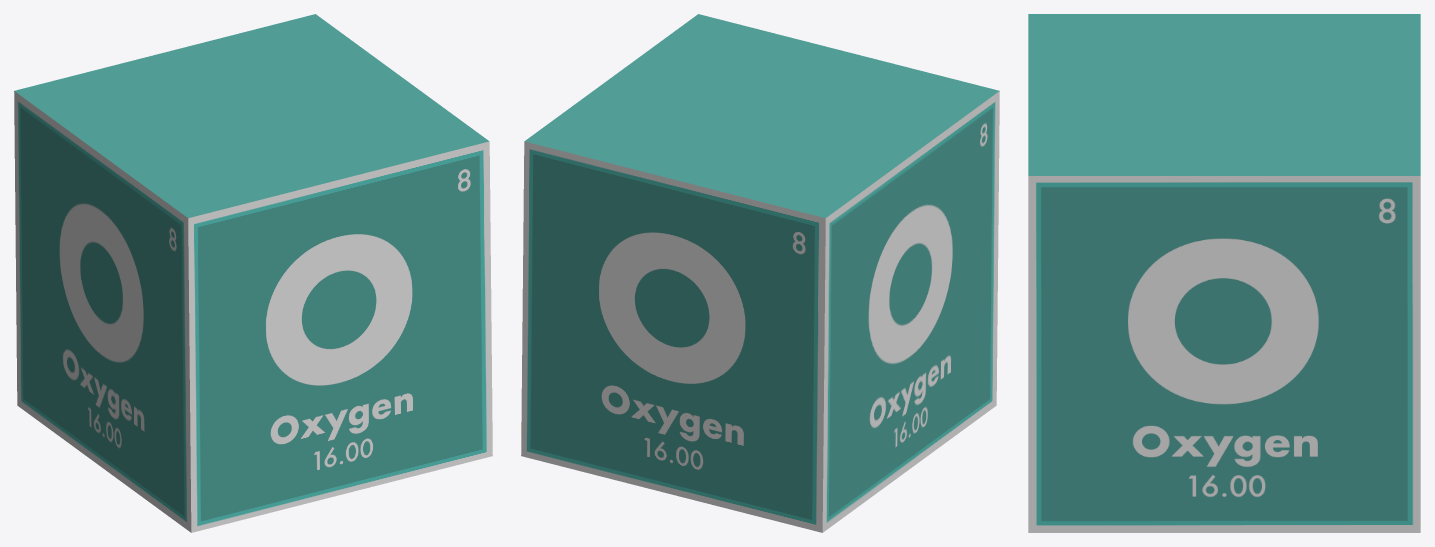
File: OCube.glb
3 views of the same model, side by side, from view 1: azimuth 30°, elevation 25°; view 2: azimuth 150°, elevation 25°; view 3: azimuth 270°, elevation 25° (orthographic). The views are drawn at different scales.
Visible parts, largest first — view 1: Cube; view 2: Cube; view 3: Cube.
Part boxes in pixels (box(x1,y1,x2,y2)): Cube: box(14, 14, 492, 532); Cube: box(521, 14, 999, 532); Cube: box(1028, 14, 1420, 532).
Size of the model in its own units: 1.01 by 1.01 by 1.
Materials: 1 (1 with a texture image).
